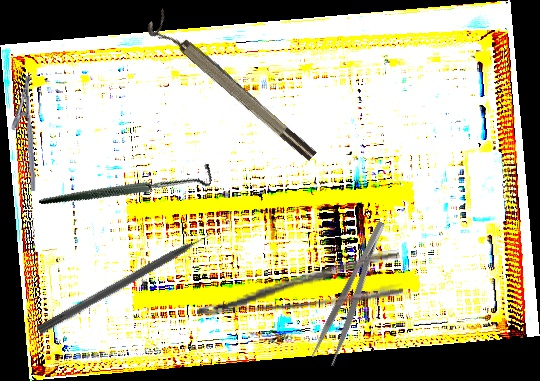Dressing Forceps: (193, 249, 404, 320), (308, 219, 401, 367)
Fixation Ring: (143, 8, 320, 171)
Hook Surgical: (38, 114, 217, 256)
Needle Holder: (8, 76, 37, 192)
Pusher: (36, 225, 223, 337)
